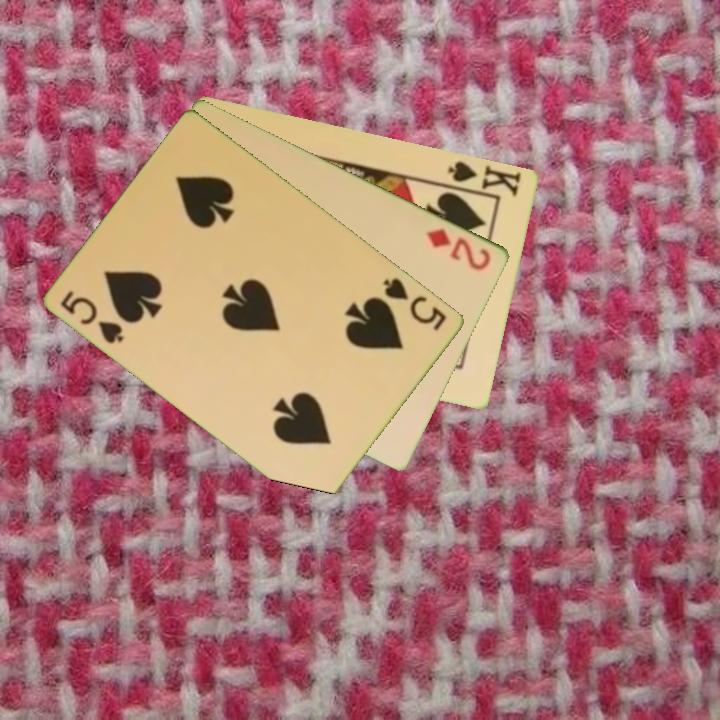2d: (422, 224, 495, 273)
5s: (57, 287, 128, 347), (380, 274, 450, 334)
Ks: (445, 157, 524, 199)
